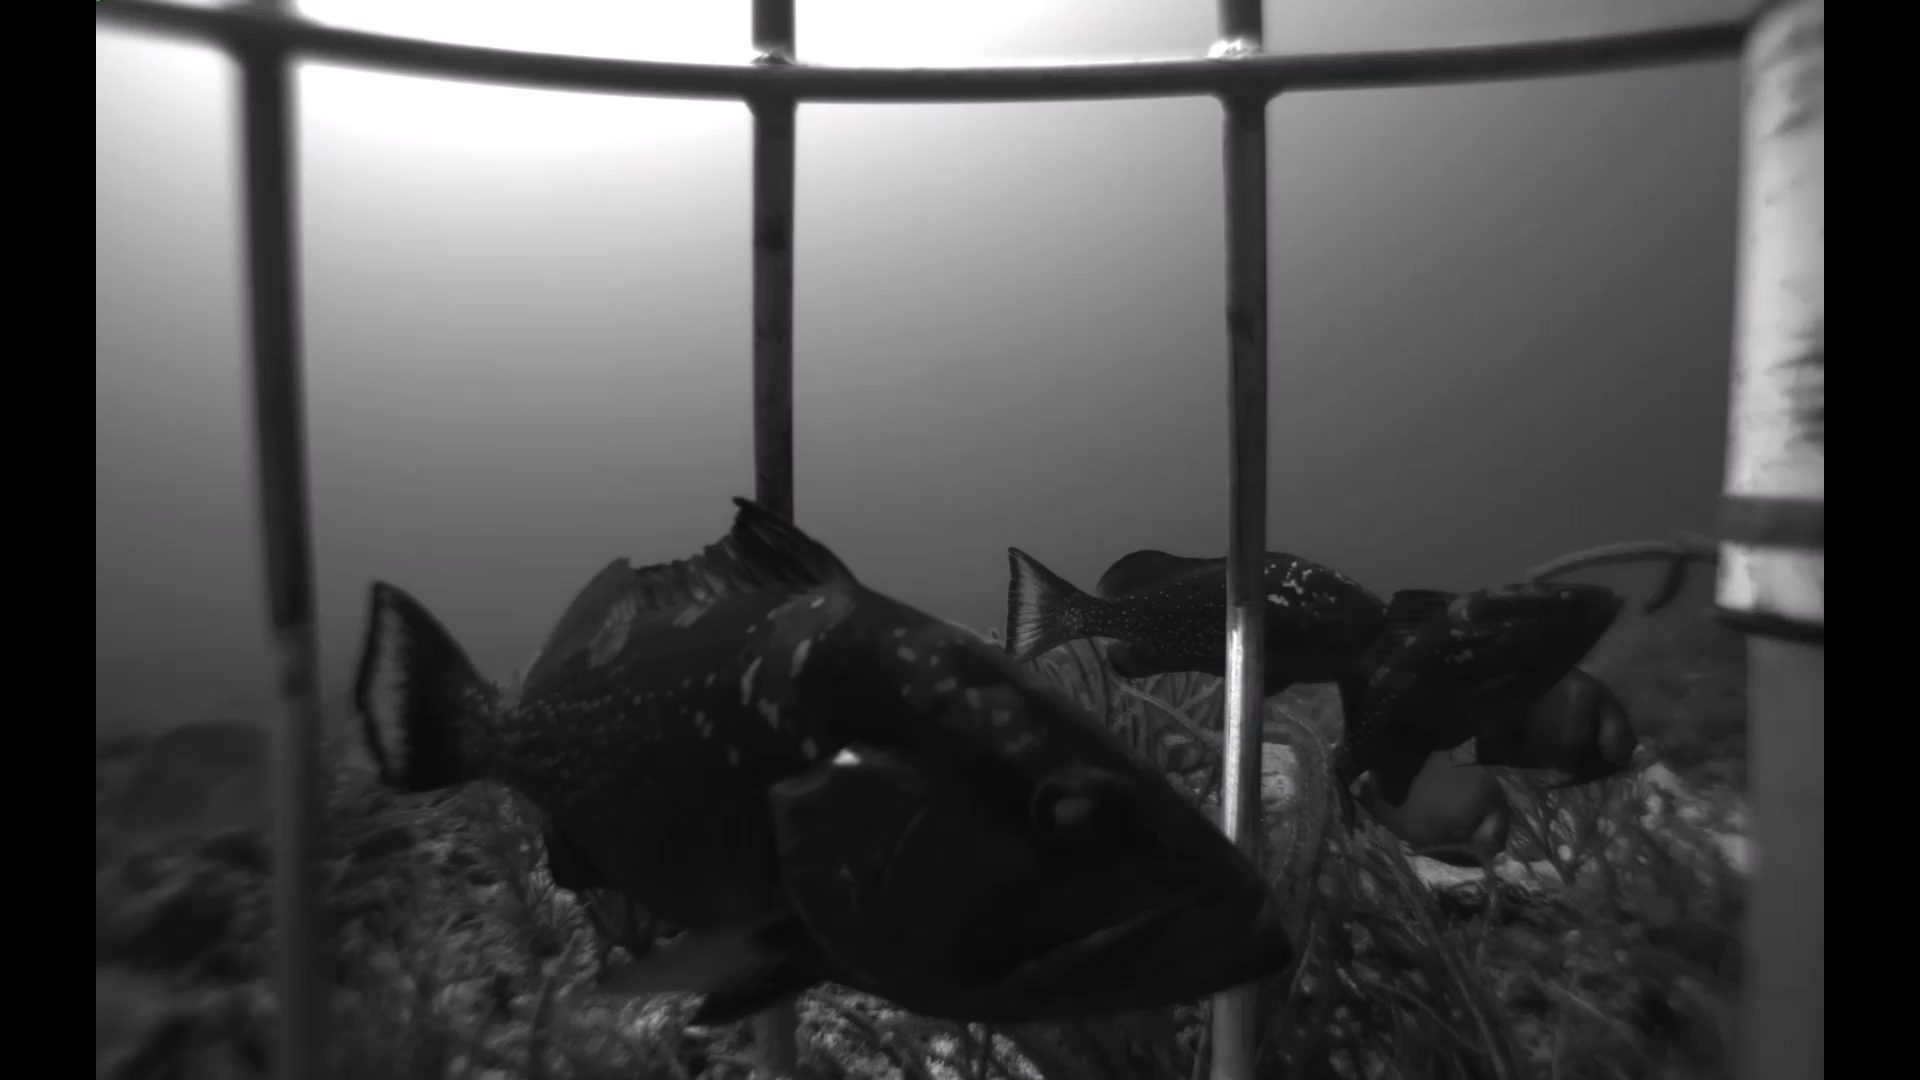CALAMUSNODOSUS-170210608: (96, 687, 389, 847)
EPINEPHELUSMORIO-170021211: (315, 489, 1313, 1073), (1324, 564, 1647, 803), (1000, 531, 1400, 703)
POMACANTHUSARCUATUS-170290201: (1335, 720, 1520, 878), (1451, 669, 1668, 802)
